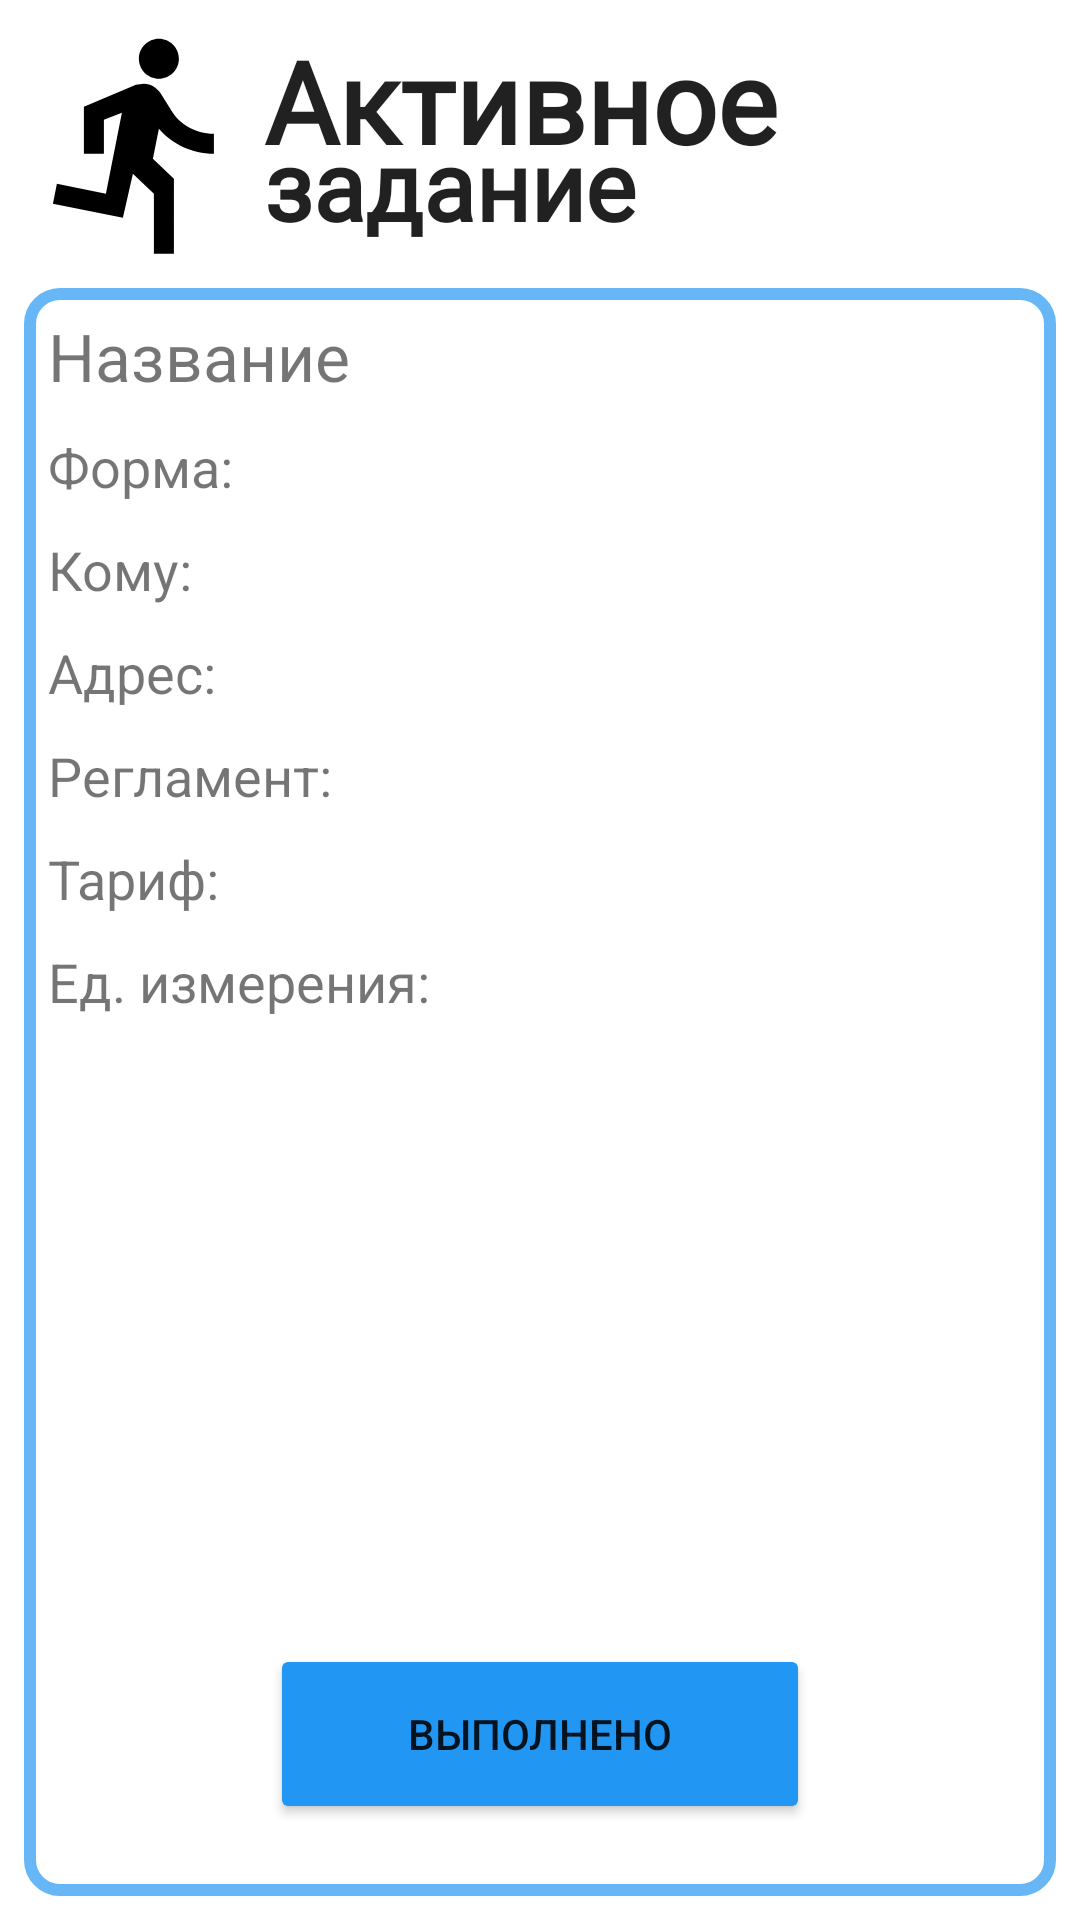

Icons on this 1080*1920 Android screen, each with the point to tap as (x,y):
run: (133,146)
